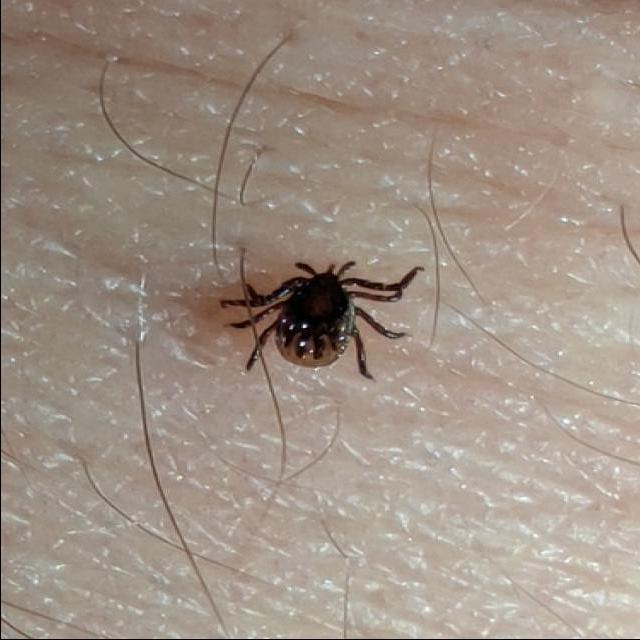Ixodes Ricinus-M: (218, 261, 423, 381)
